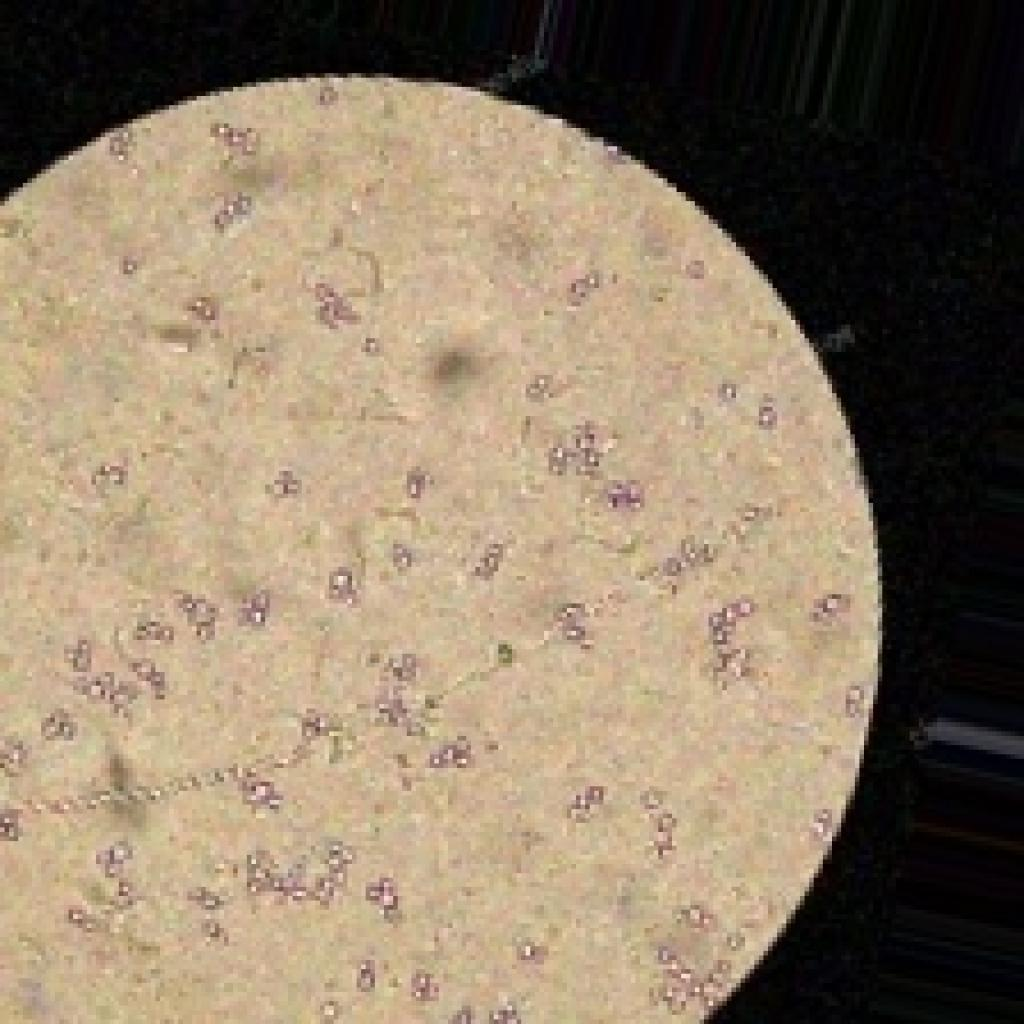Yeast: (43, 41, 843, 1024)
